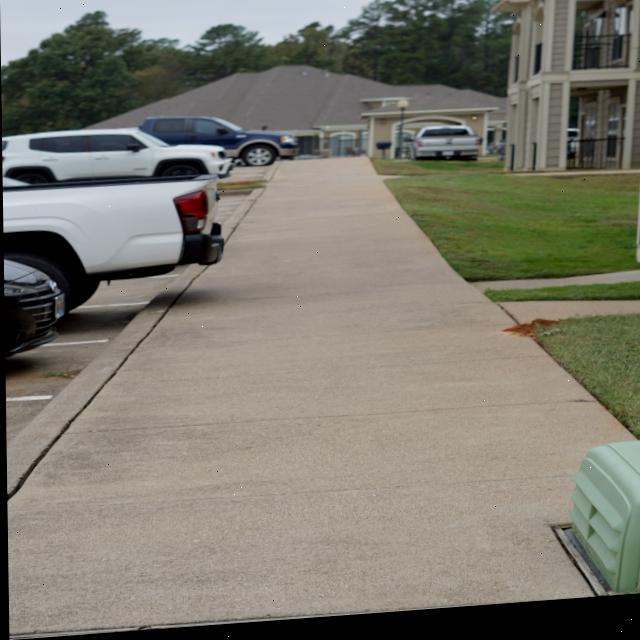Automobile: (2, 120, 298, 357), (408, 132, 480, 167)
Obstacle: (568, 451, 640, 602)
Road: (4, 284, 164, 448)
Sidewalk: (5, 163, 632, 640)
